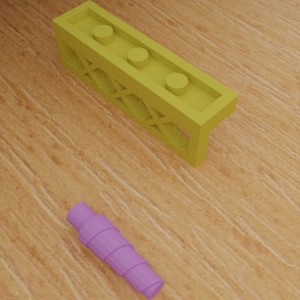lego: (51, 0, 238, 167), (66, 201, 164, 299)
